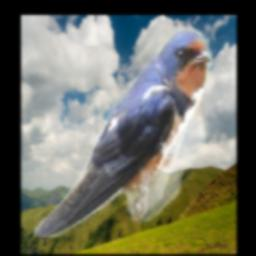Swallow: (35, 26, 214, 237)
